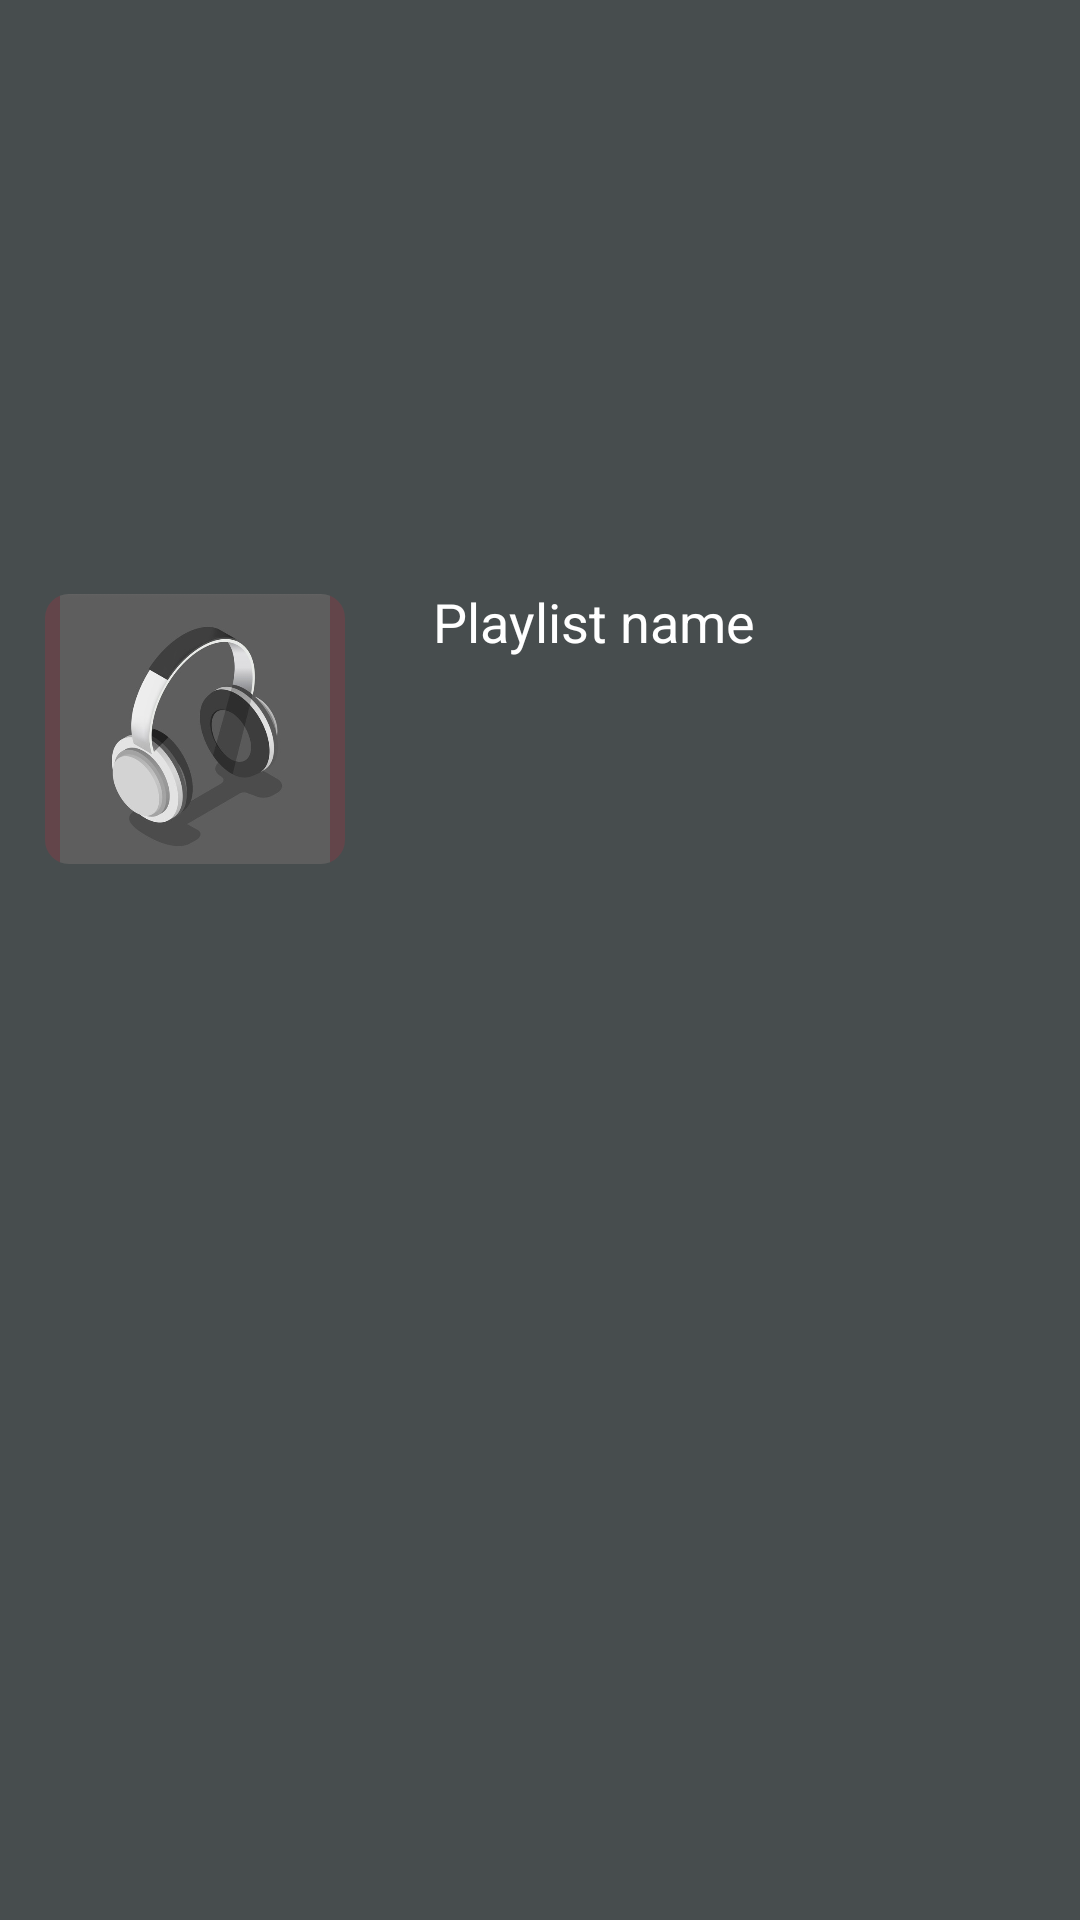

Named icons in this screenshot (1080w x 1920h) and their bounding boxes, (x1, y1, x2, y2):
headphone: (45, 594, 345, 864)
